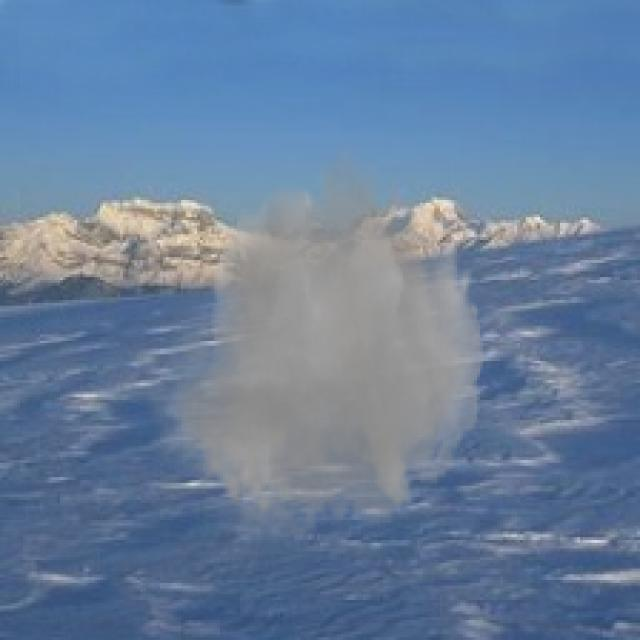Smoke: (146, 135, 492, 560)
